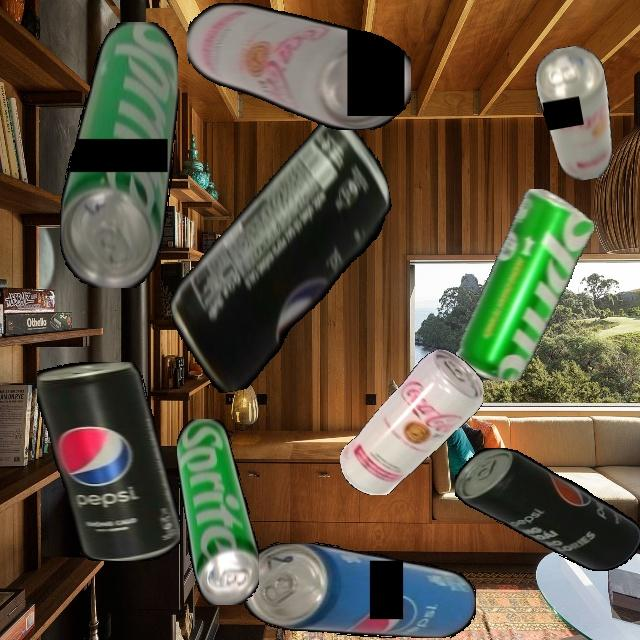debris: (144, 112, 418, 399), (59, 21, 178, 288), (36, 362, 180, 561), (186, 3, 411, 130), (456, 188, 594, 381), (454, 448, 640, 571), (244, 541, 476, 638), (339, 349, 483, 495), (176, 418, 259, 605), (531, 42, 622, 185)
